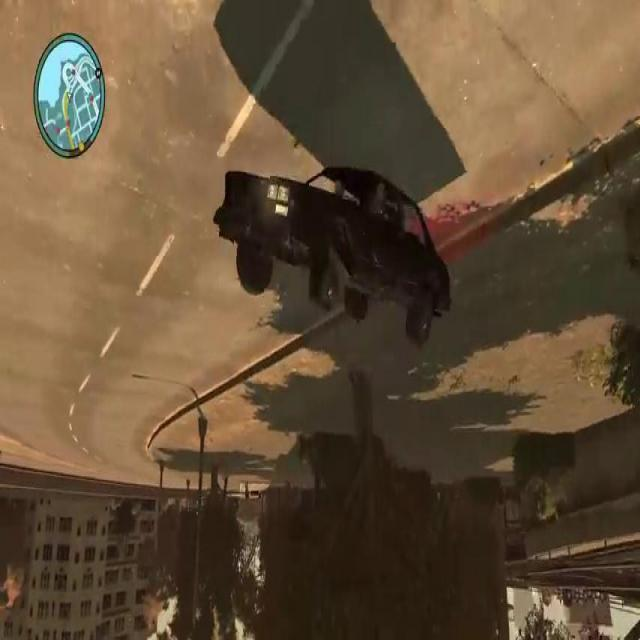severe: (210, 158, 454, 358)
